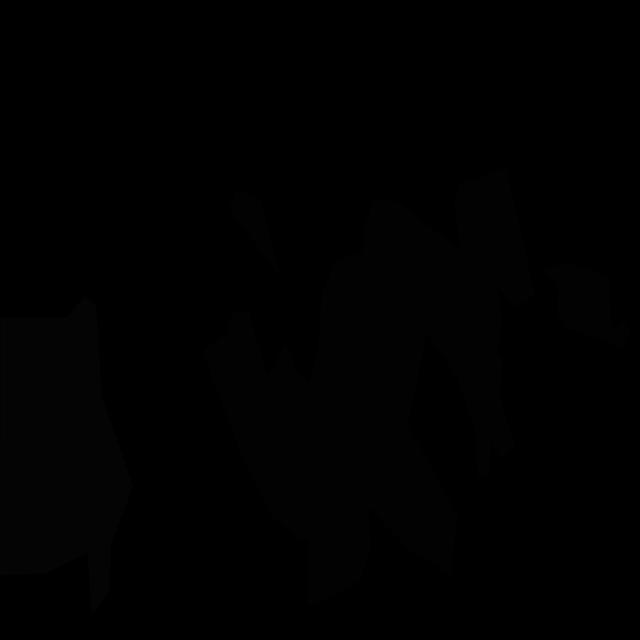cardboard: (202, 221, 494, 605), (366, 198, 516, 458), (454, 167, 535, 308), (540, 262, 630, 348), (228, 190, 281, 279)
soft_plastic: (0, 297, 133, 615)
